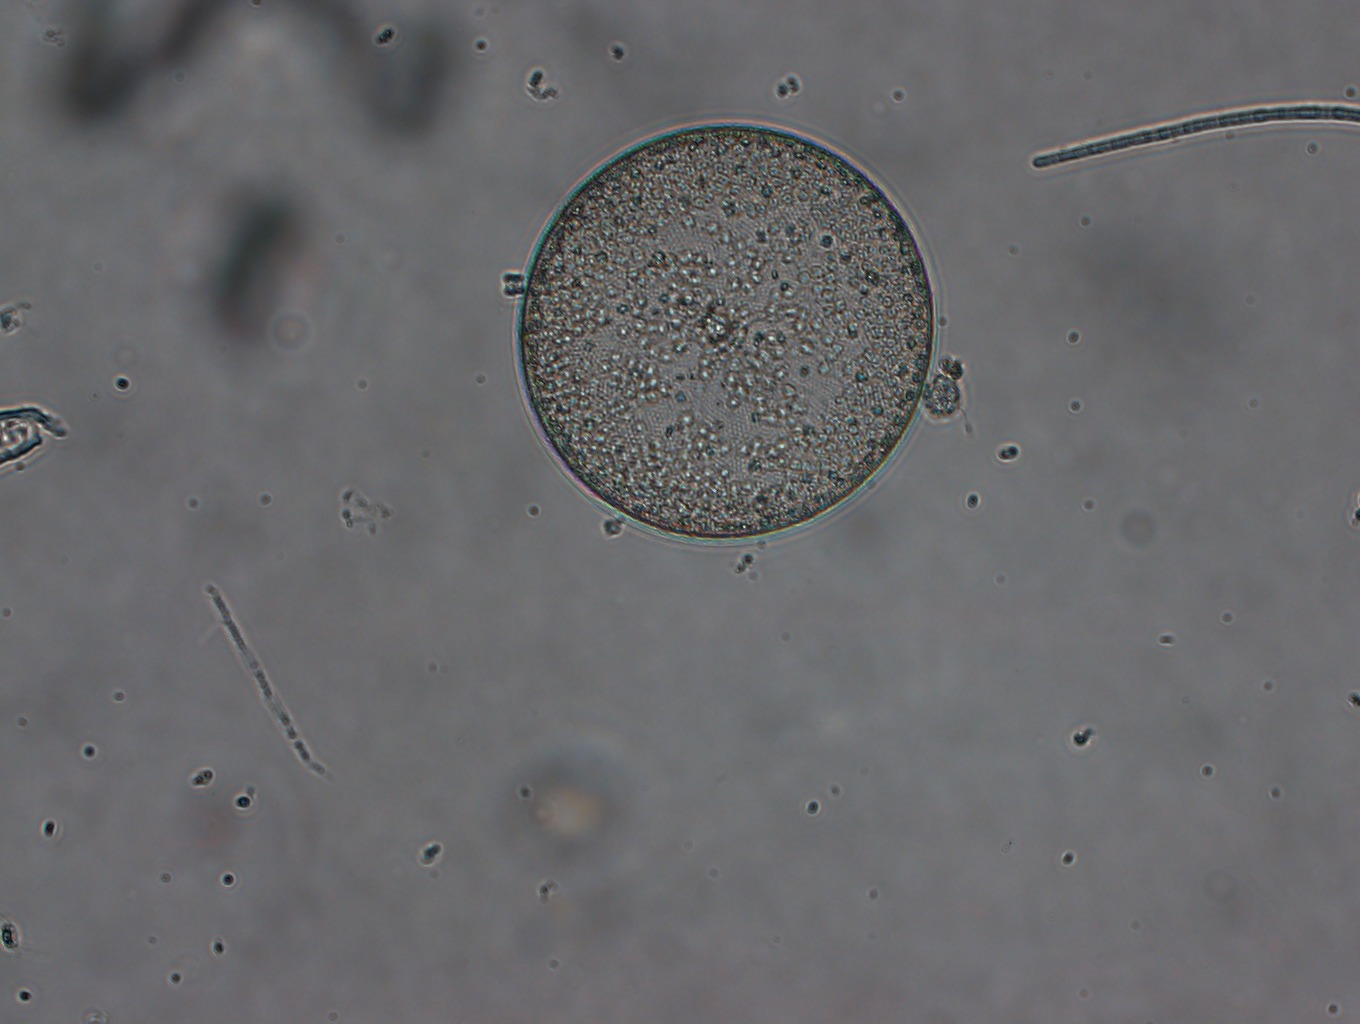coscinodiscus: (520, 119, 936, 541)
